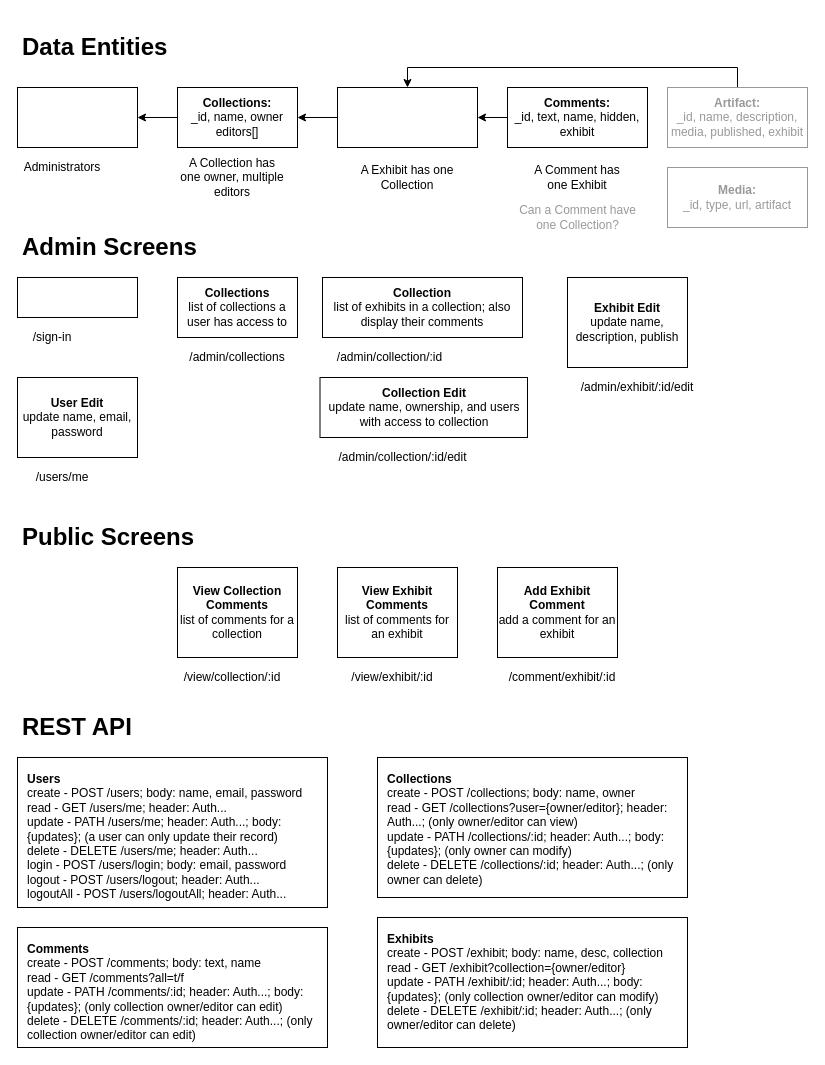
The diagram is 825 pixels wide and 1065 high, and some of its shapes have lost their labels. Each missing label, with the centre of its shape:
"Exhibits: _id, name, description, published, collection" belongs at (407,117).
"User SignIn, Create" belongs at (77,297).
"Users: _id, name, email, password" belongs at (77,117).
